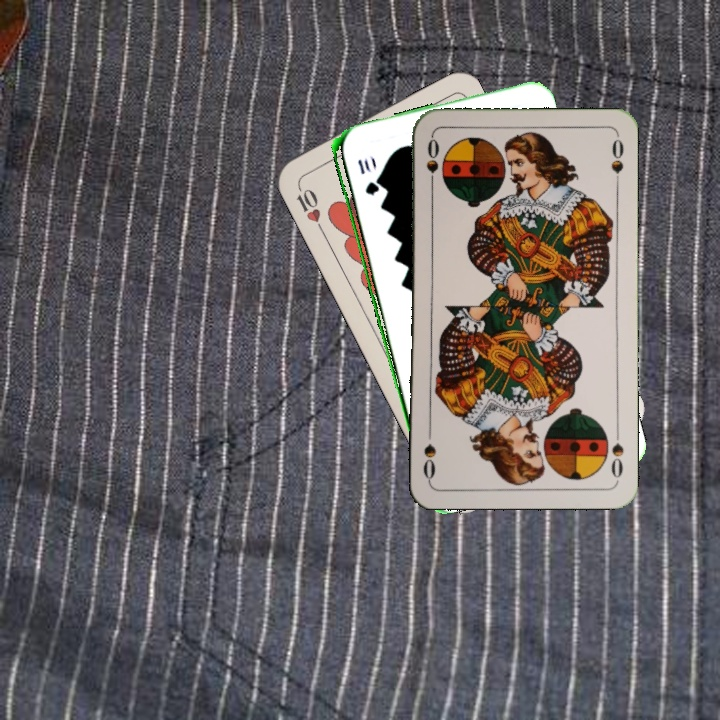G10: (353, 155, 378, 198)
H10: (291, 179, 326, 234)
SO: (422, 133, 441, 193), (608, 423, 627, 480)
